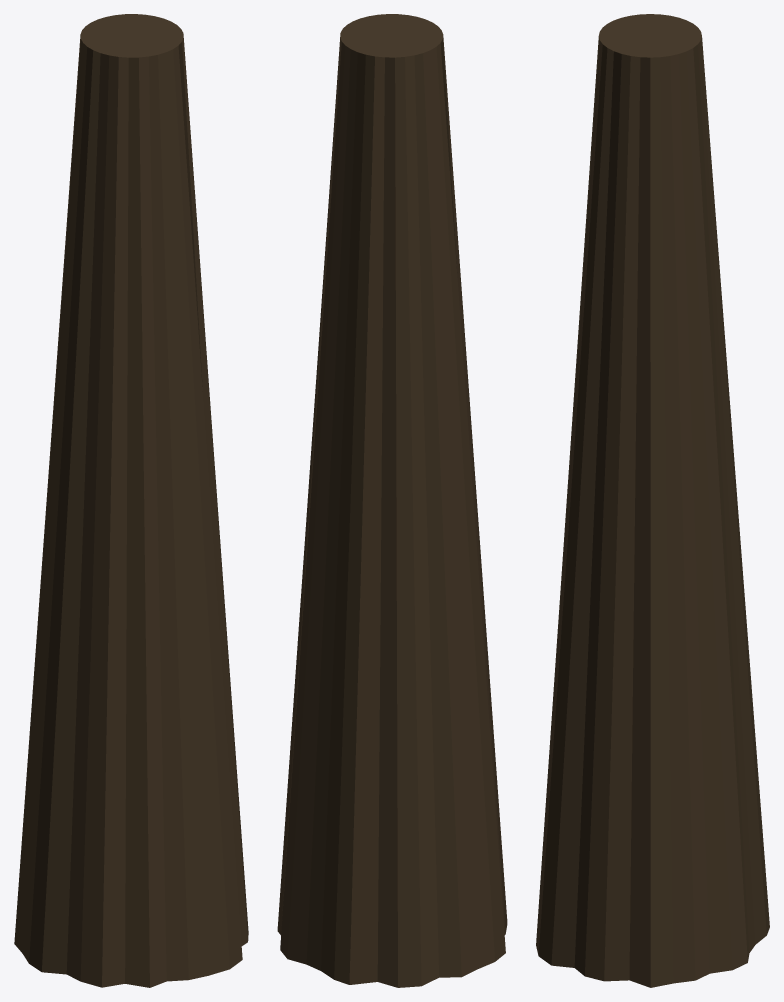
The model's file is Tree Trunk.fbx.
3 renders of one model, left to right at view 1: azimuth 30°, elevation 25°; view 2: azimuth 150°, elevation 25°; view 3: azimuth 270°, elevation 25°, orthographic.
Parts seen in each view (by area): view 1: Cylinder; view 2: Cylinder; view 3: Cylinder.
Part boxes in pixels (x1,y1,x2,y2): Cylinder: (14, 14, 248, 987); Cylinder: (277, 14, 507, 987); Cylinder: (536, 14, 769, 987).
Bounding box in the file's own units: 1870 × 7675 × 1808.
